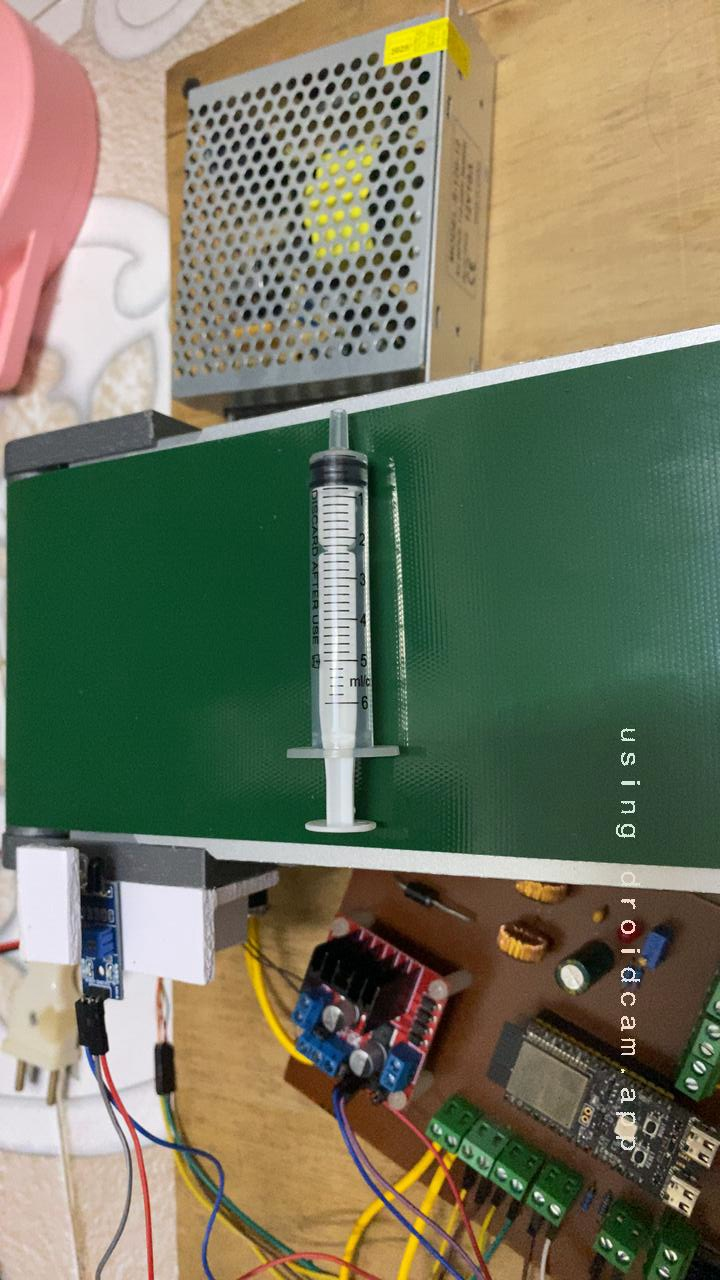syringe: (200, 439, 471, 868)
